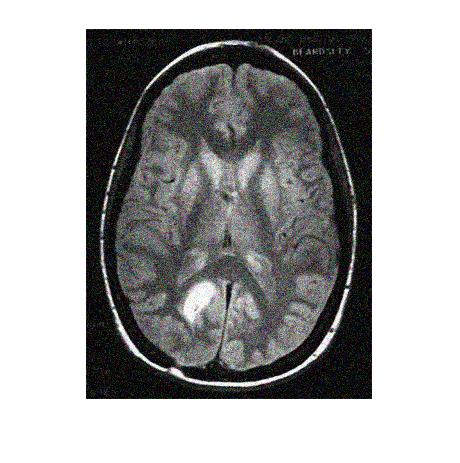Brain_Cancer: (178, 280, 221, 326)
